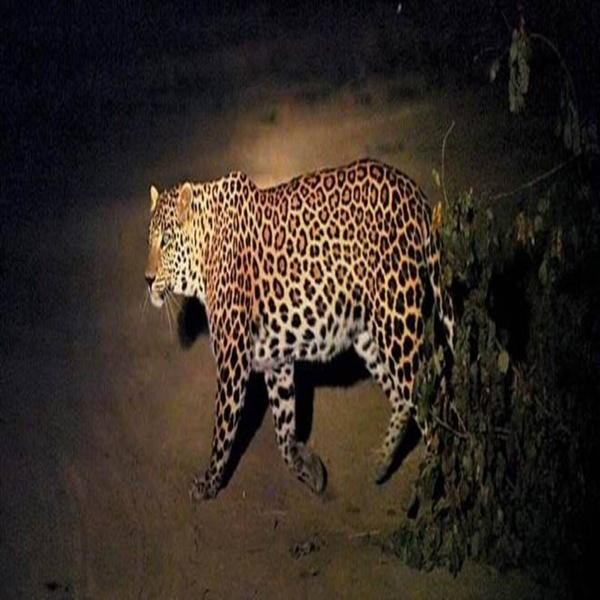Leopard: (131, 154, 449, 502)
